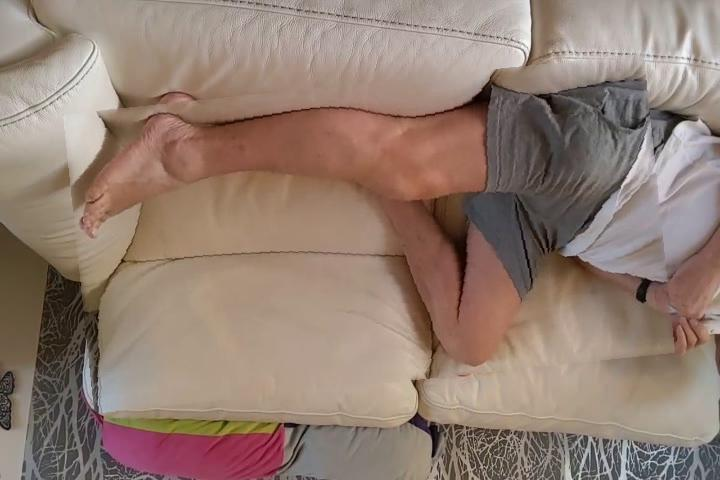lower_body: (72, 69, 670, 400)
